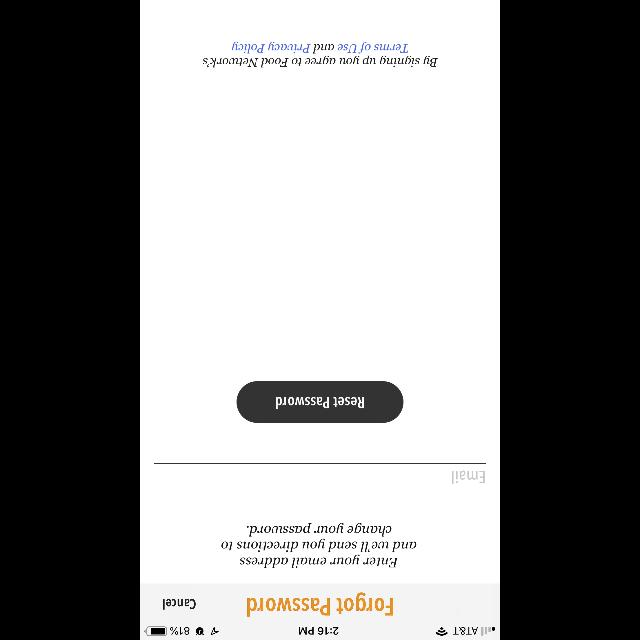input: (154, 462, 486, 483)
text: (222, 524, 416, 568), (202, 41, 438, 67), (247, 592, 393, 616), (452, 471, 484, 484), (162, 598, 195, 610)
textbutton: (236, 381, 404, 423)
uppertaskbar: (140, 626, 500, 640)
